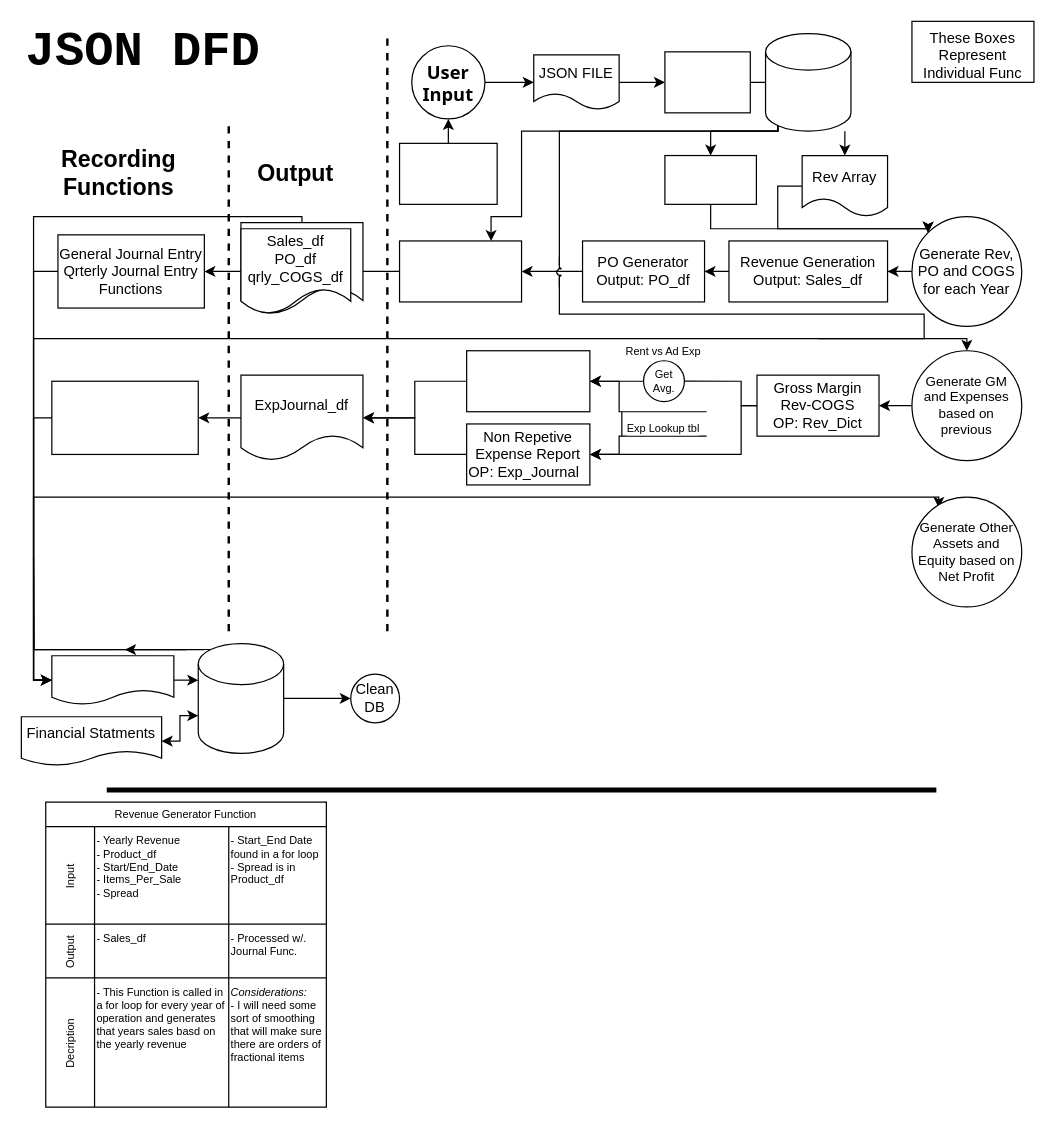
Image size: 1055x1129. Some labels were removed from this diagram. The shapes that lost their labels are listed below. From the top down, each one's centre as x and y in pixels, then its label:
At (x=707, y=82): "Data_Intake Function".
At (x=807, y=81): "User_Data Store".
At (x=447, y=173): "JS Revenue Generation Function".
At (x=710, y=179): "Change the Industry".
At (x=460, y=271): "COGS Function output: qrly_COGS_df".
At (x=527, y=381): "Repetive Expense Report OP: Exp_Journal".
At (x=124, y=417): "General Journal Entry Functions".
At (x=112, y=680): "General Ledger".
At (x=240, y=697): "Generated Data".
